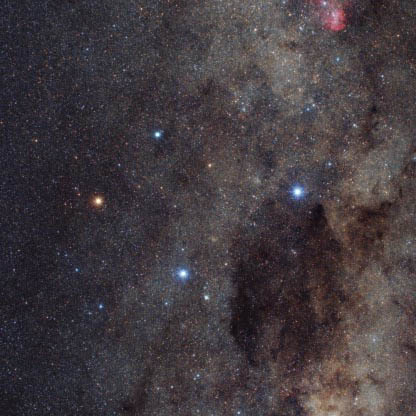Southern Cross: (279, 175, 316, 216), (165, 260, 199, 299), (87, 184, 111, 215), (145, 122, 169, 150)
